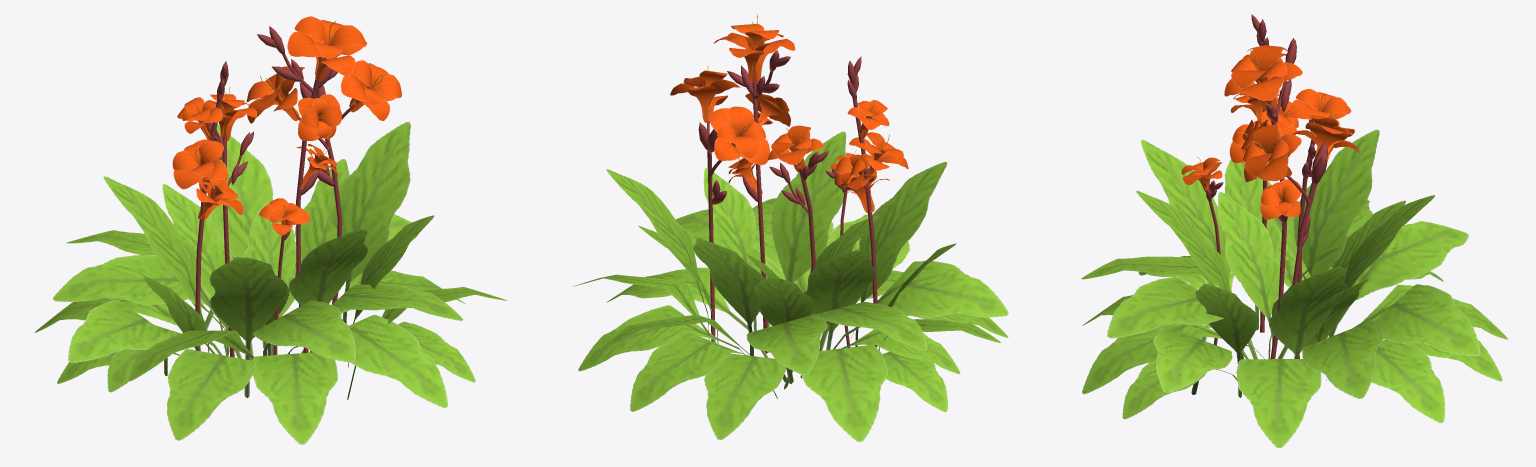
File: plant2.fbx
The picture shows the model from 3 angles, left to right: view 1: azimuth 30°, elevation 25°; view 2: azimuth 150°, elevation 25°; view 3: azimuth 270°, elevation 25°; orthographic projection. The views are drawn at different scales.
Parts seen in each view (by area): view 1: plant2; view 2: plant2; view 3: plant2.
Part boxes in pixels (x1,y1,x2,y2): plant2: [34, 16, 507, 444]; plant2: [573, 14, 1008, 441]; plant2: [1081, 14, 1507, 447].
Bounding box in the file's own units: 259 × 212 × 244.
